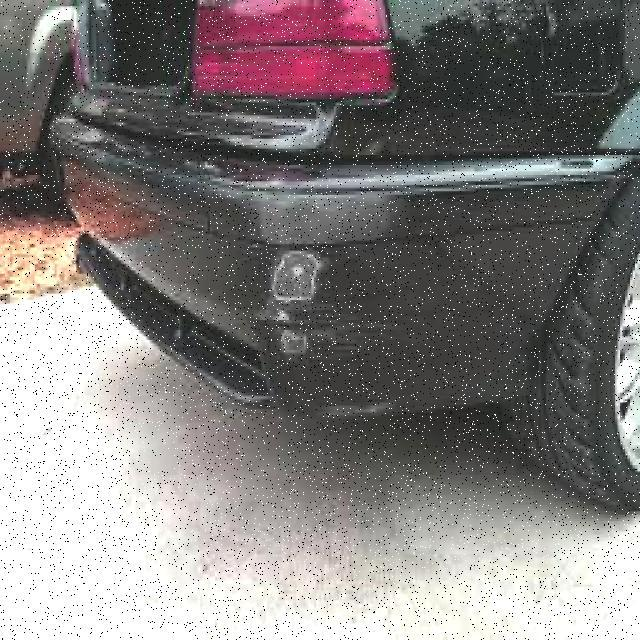car damage: (260, 240, 437, 366)
